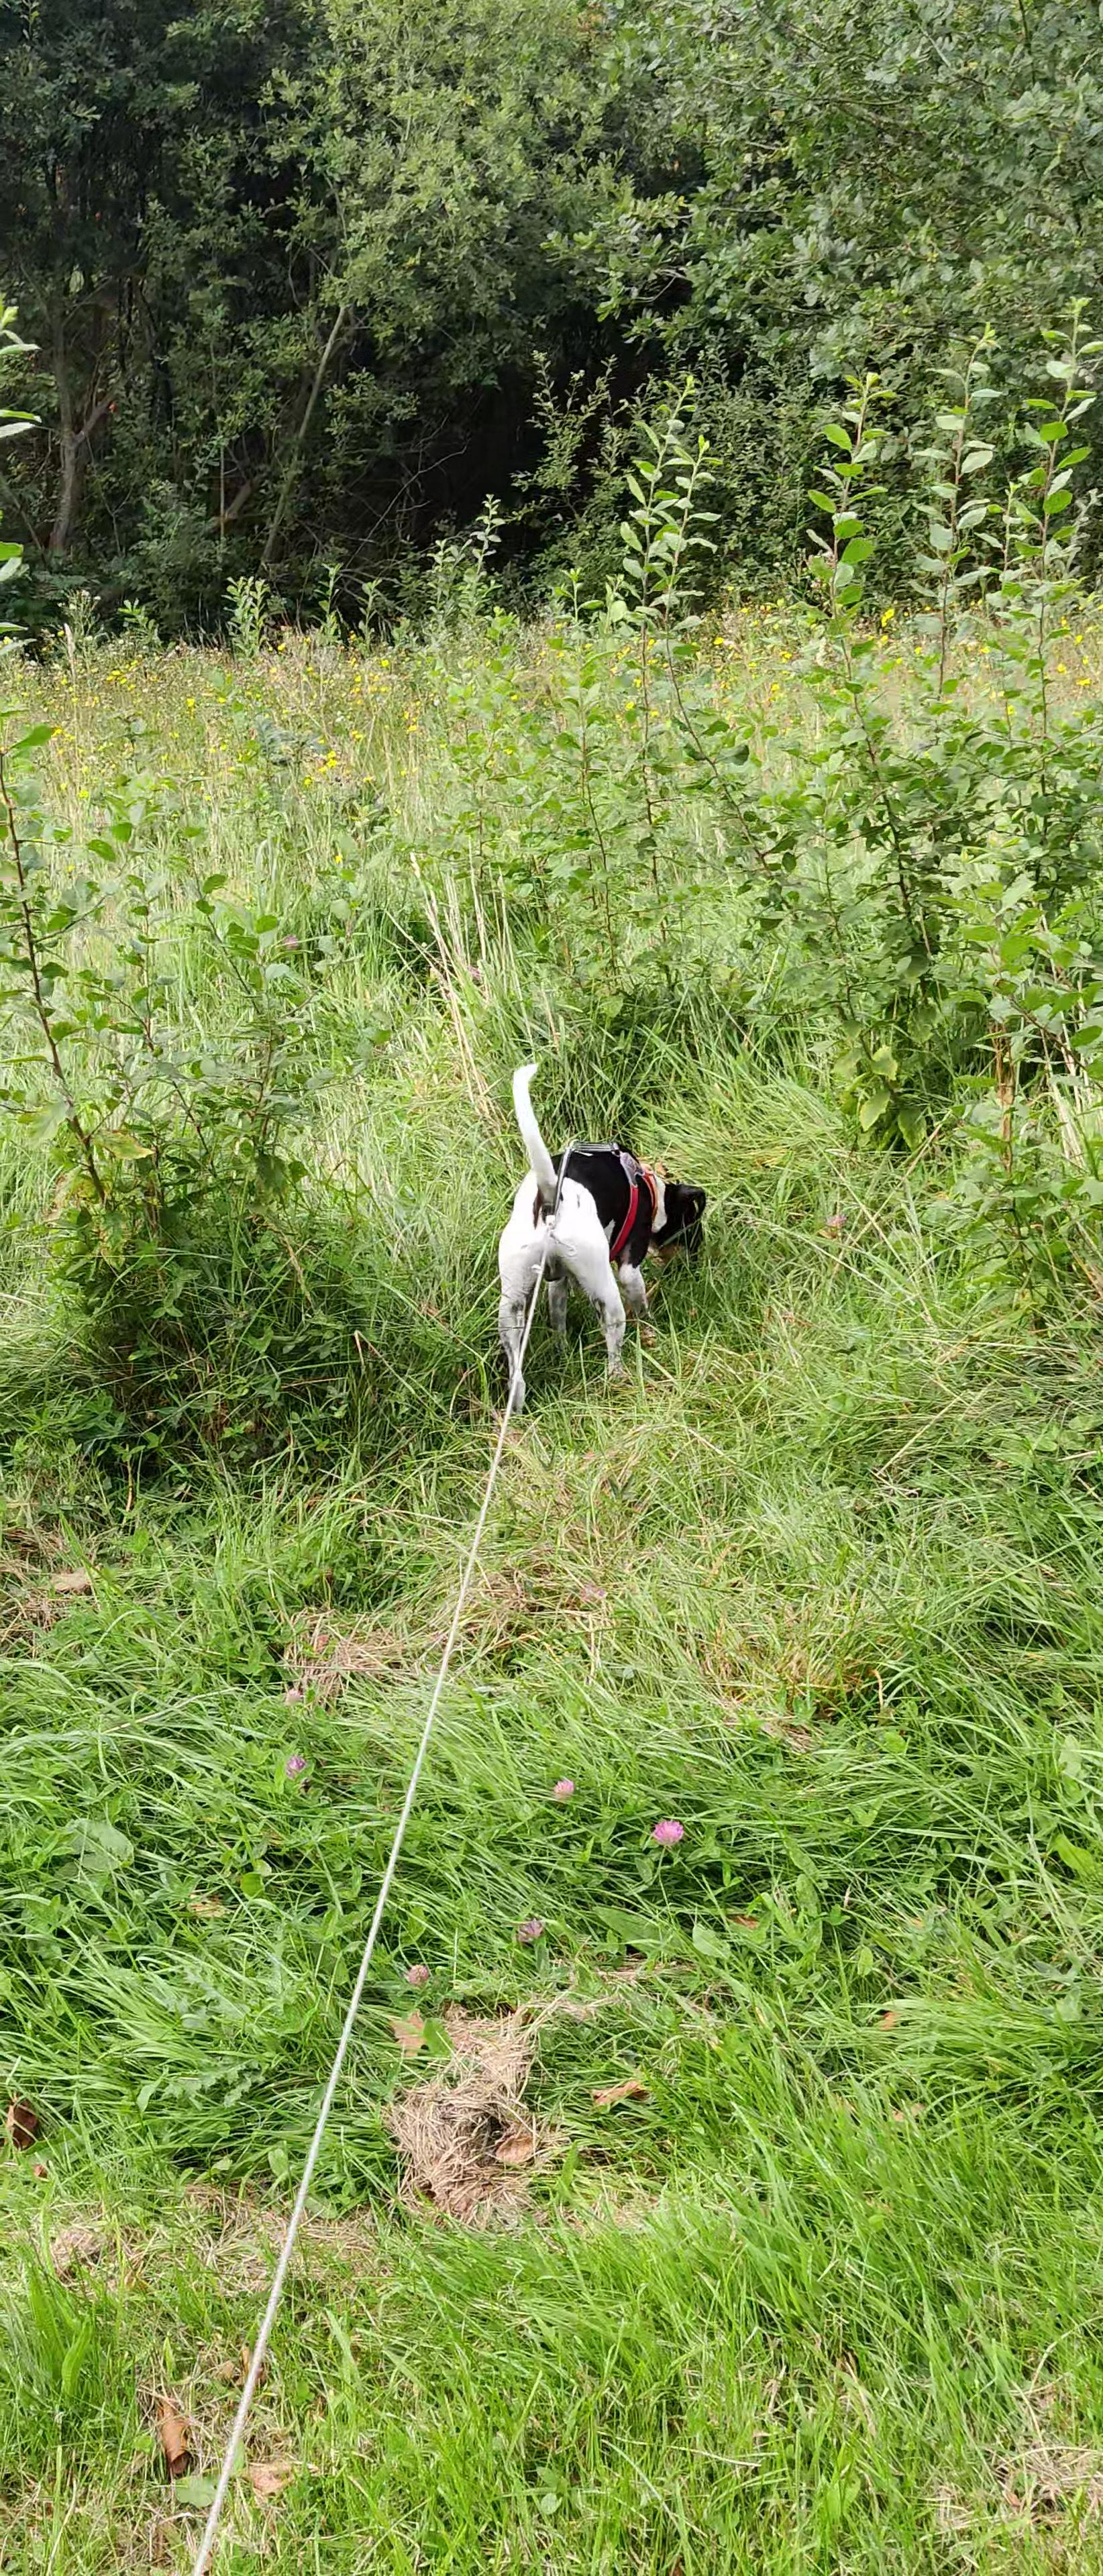Dog: (475, 1045, 712, 1408)
